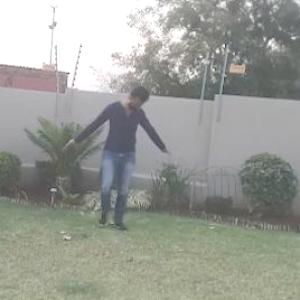land: (69, 75, 187, 245)
